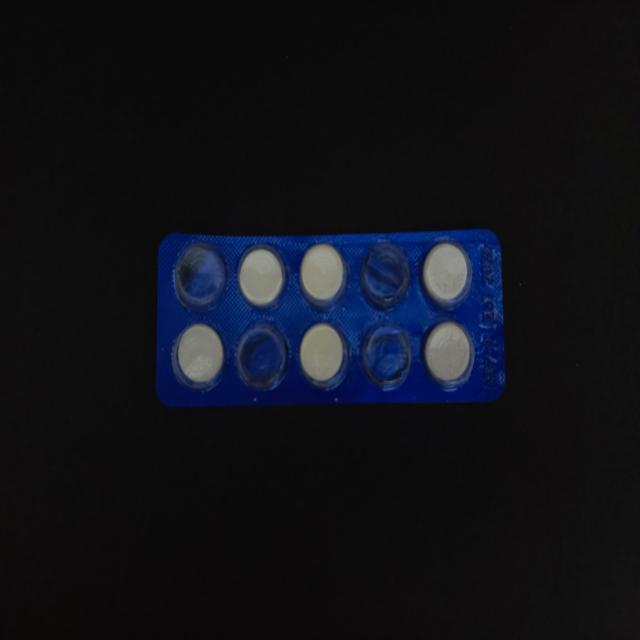defect: (170, 240, 230, 316), (233, 318, 292, 394), (358, 319, 414, 392), (358, 239, 412, 309)
